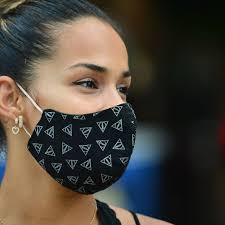mask: (2, 7, 139, 202)
